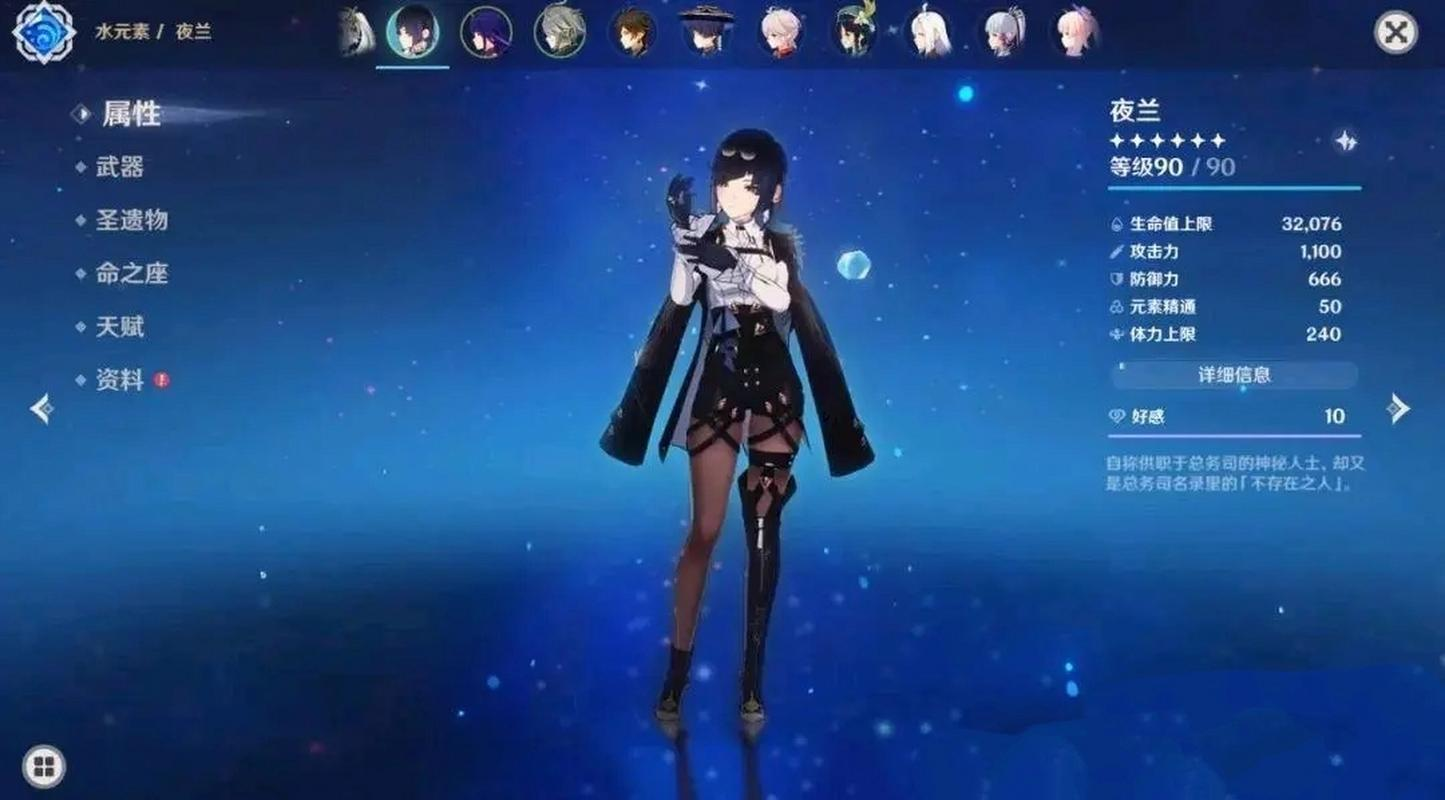夜兰: (610, 112, 891, 740), (385, 7, 438, 55)
